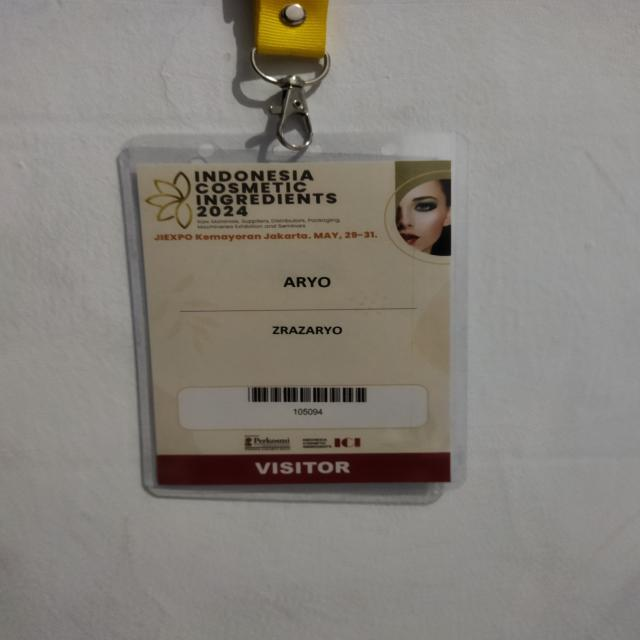ID_card: (117, 132, 465, 502)
